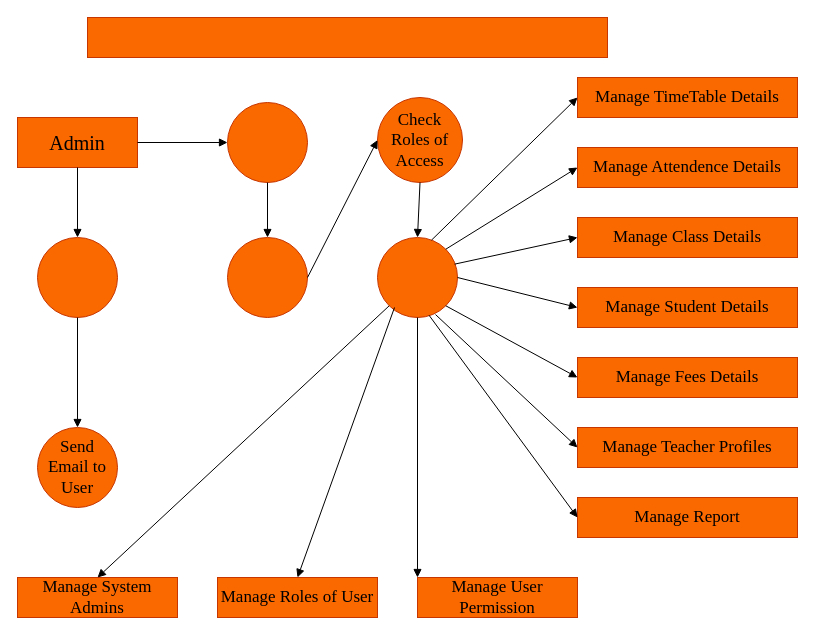
Image size: 815x635. Some labels were removed from this diagram. The shapes that lost their labels are listed below. From the top down, each one's centre as x and y in pixels, then its label:
At point (347, 37): "Student Login Portal".
At point (267, 142): "Login to System".
At point (77, 277): "Forgot Password".
At point (267, 277): "Check Credentials".
At point (417, 277): "Manage Modules".
